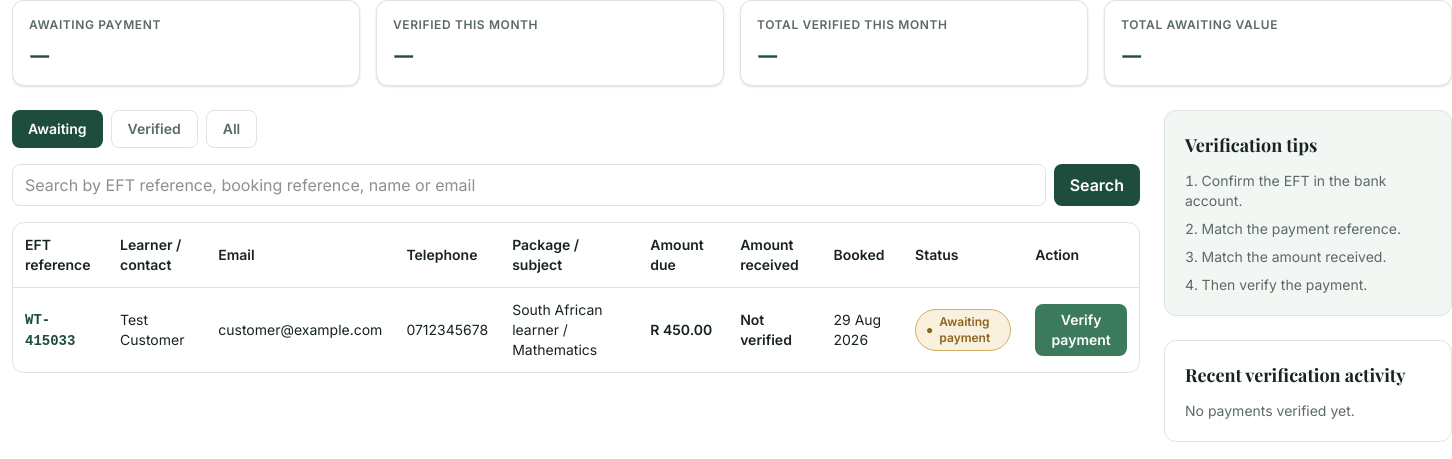
Test: AdminDashboard › searching filters the list via the existing search query parameter
The width and height of the screenshot is (1452, 459).
Type "no-match" into the field with placeholder "Search by EFT reference, booking reference, name or email". click: (529, 185)
box: x1=12 y1=164 x2=1046 y2=206
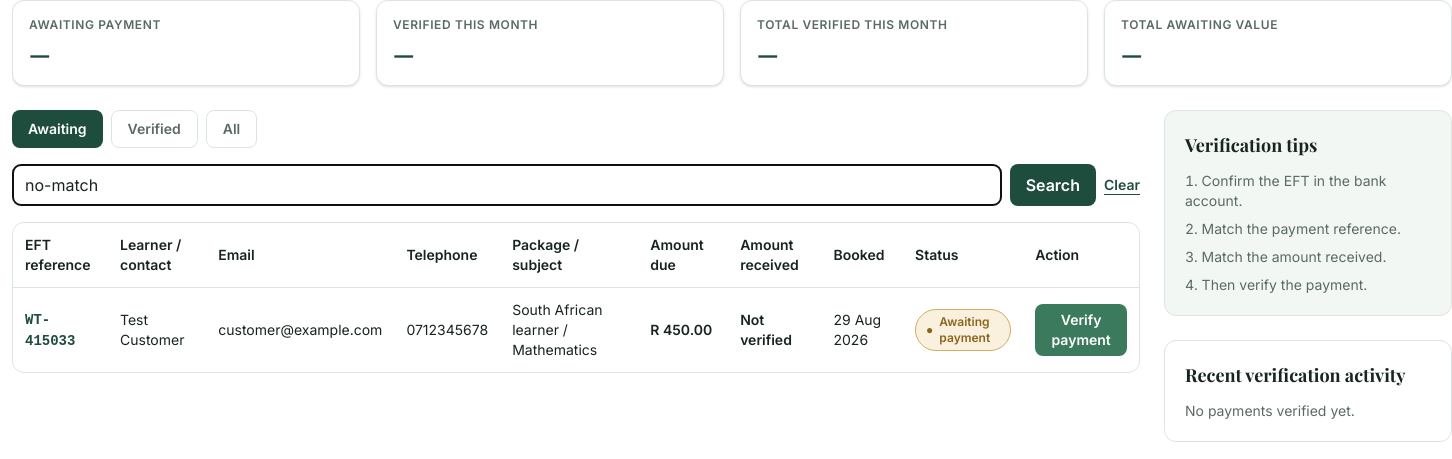
Click the button "Search". click: (1053, 185)
box: x1=1010 y1=164 x2=1096 y2=206
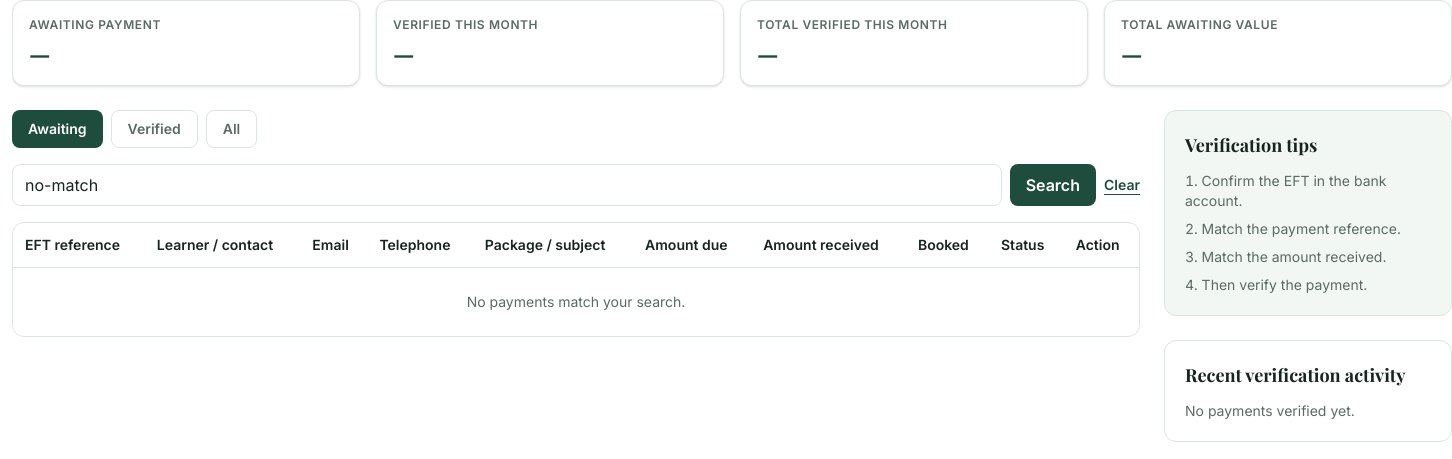
Result: the text "No payments match your search." is shown at x1=13 y1=268 x2=1139 y2=336
